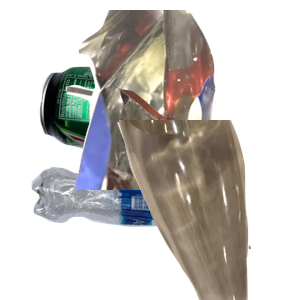glass: (115, 120, 300, 300)
metal: (37, 64, 245, 214)
plastic: (29, 165, 227, 300)
trash: (63, 10, 300, 190)
